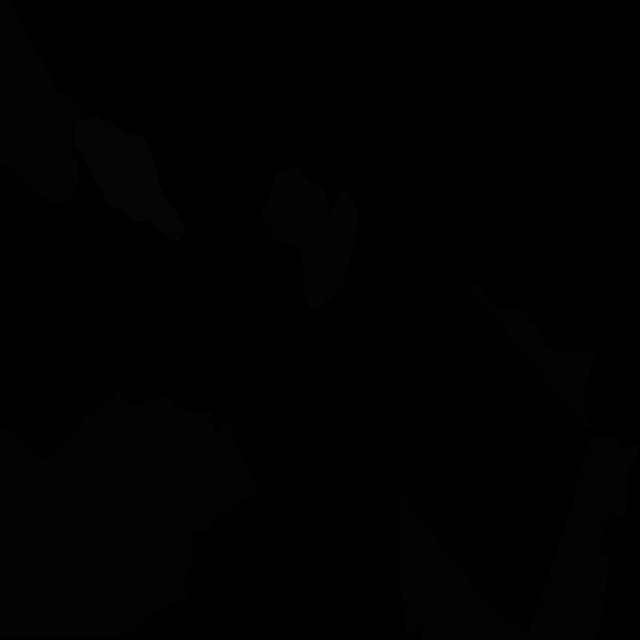cardboard: (0, 387, 259, 639), (398, 433, 640, 640), (468, 285, 596, 430), (0, 0, 84, 206)
metal: (262, 168, 359, 310)
soft_plastic: (74, 116, 186, 240)
